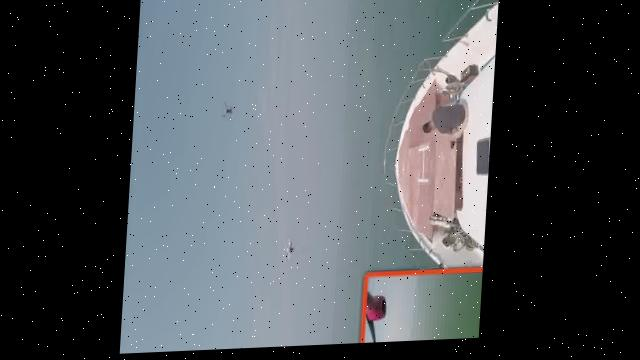drone: (215, 90, 242, 130), (282, 238, 304, 267)
